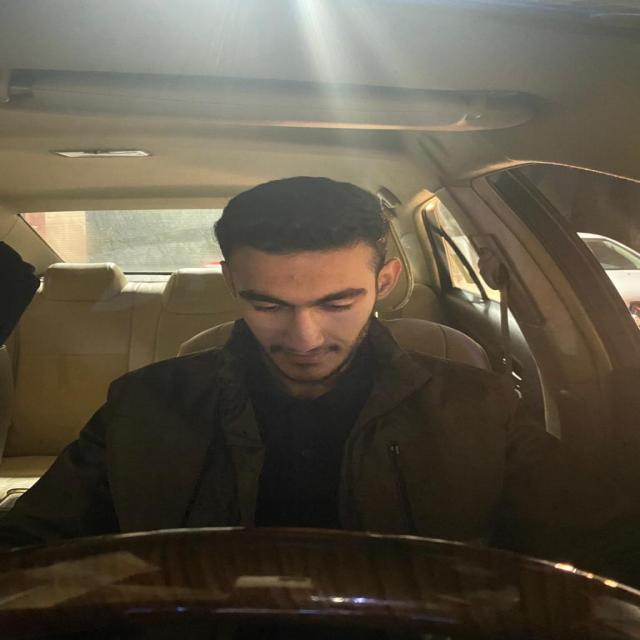person: (212, 173, 406, 389)
